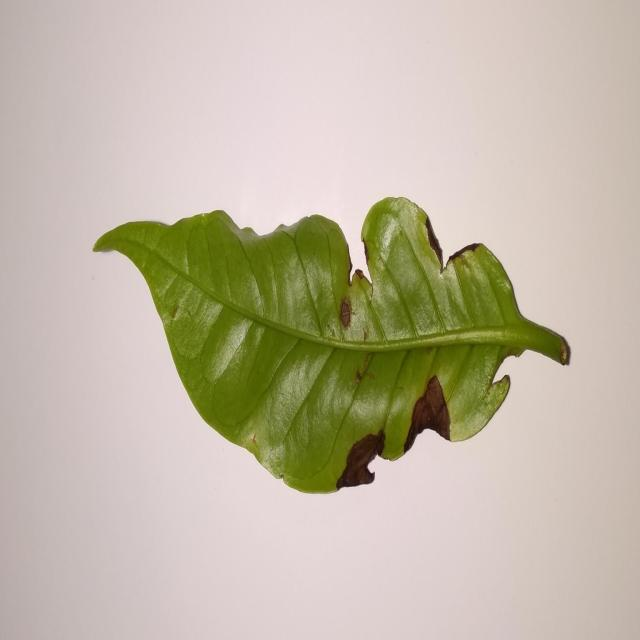Enfermedad-Antracnosis: (90, 198, 572, 496)
